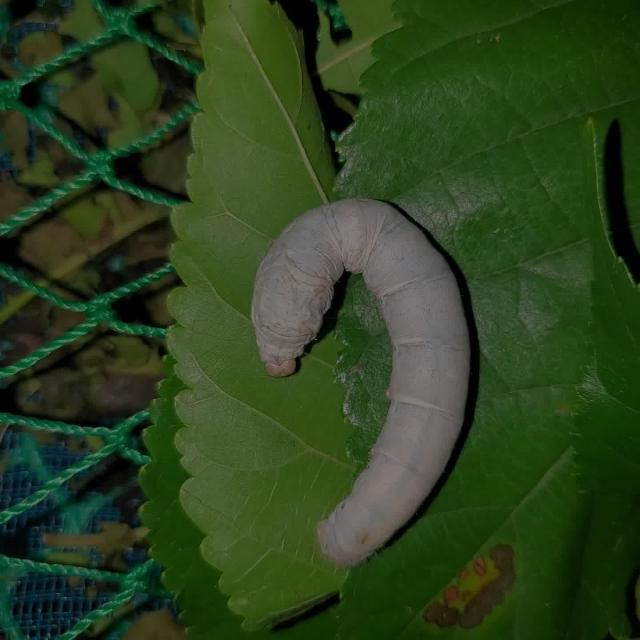Healthy: (228, 159, 524, 590)
